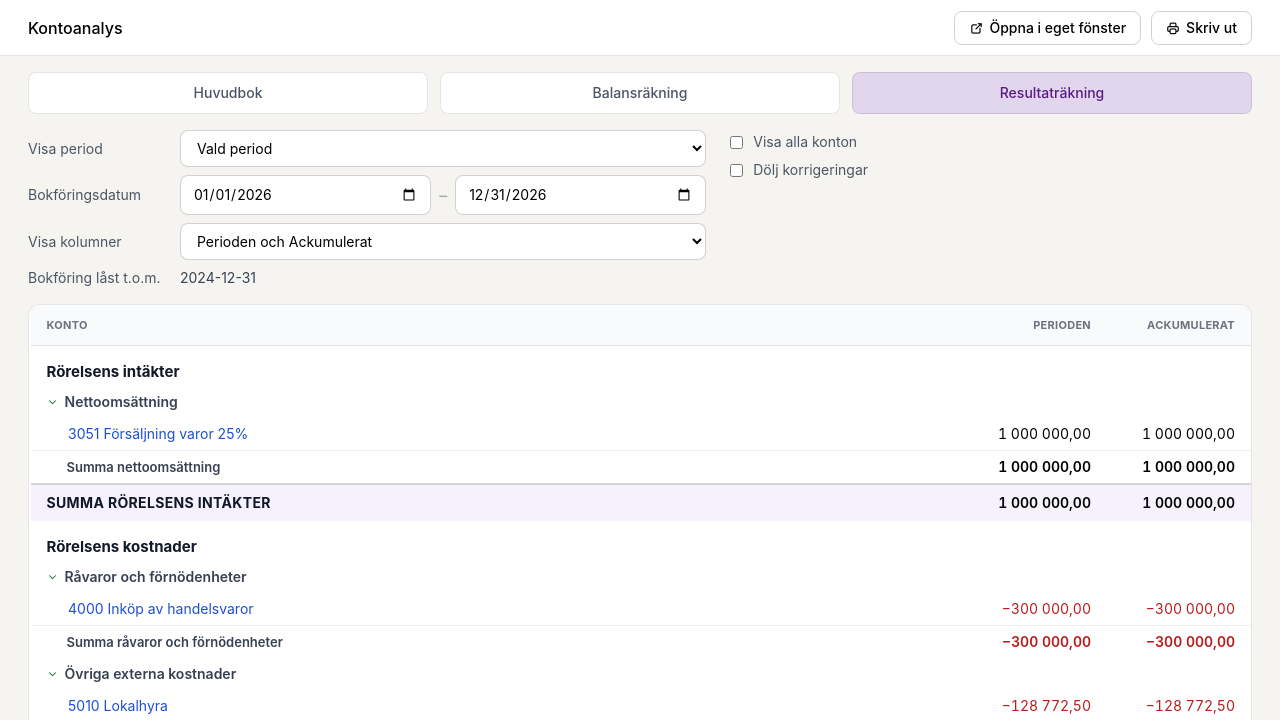
Test: Kontoanalys – Resultaträkning › grupp kan fällas ihop (döljer konton)
The width and height of the screenshot is (1280, 720).
Expected: the text "Rörelsens intäkter" is shown, [30,346,1251,386]
Expected: the text "4000 Inköp av handelsvaror" is shown, [68,600,254,617]
Click the button "Råvaror och förnödenheter" at [147, 577], box [46,567,247,587]
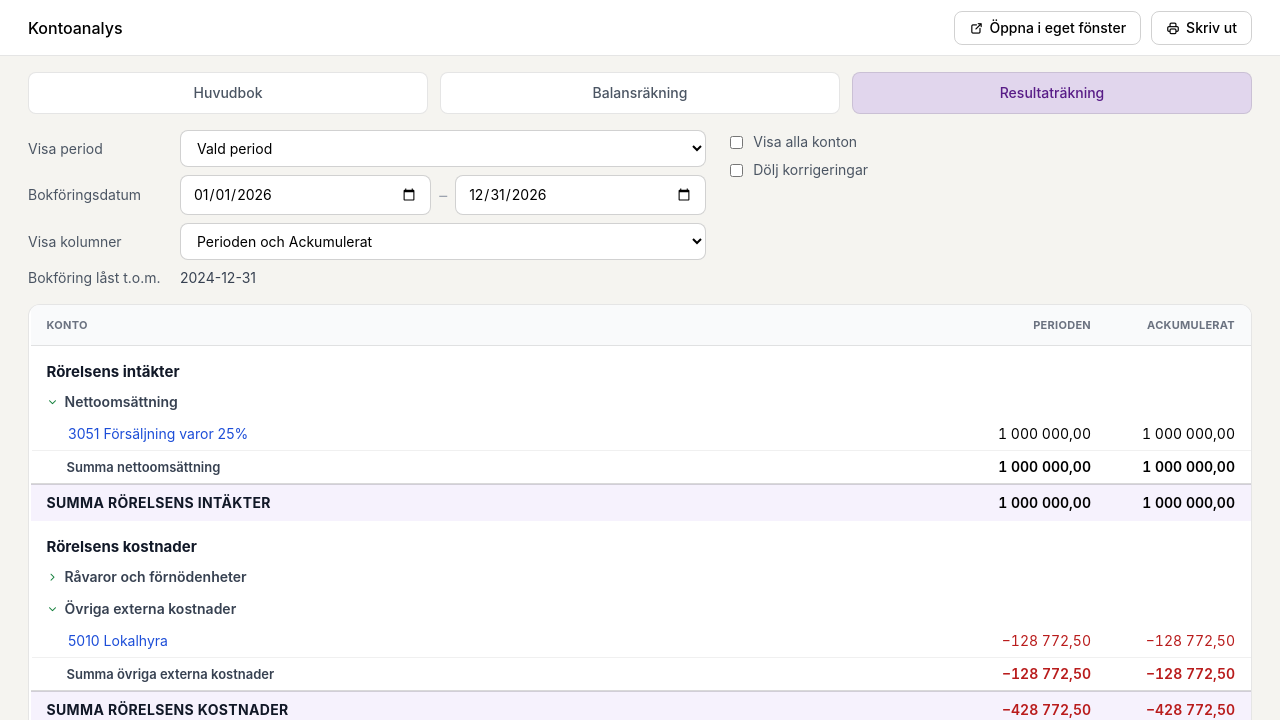
Expected: the text "4000 Inköp av handelsvaror" is gone
